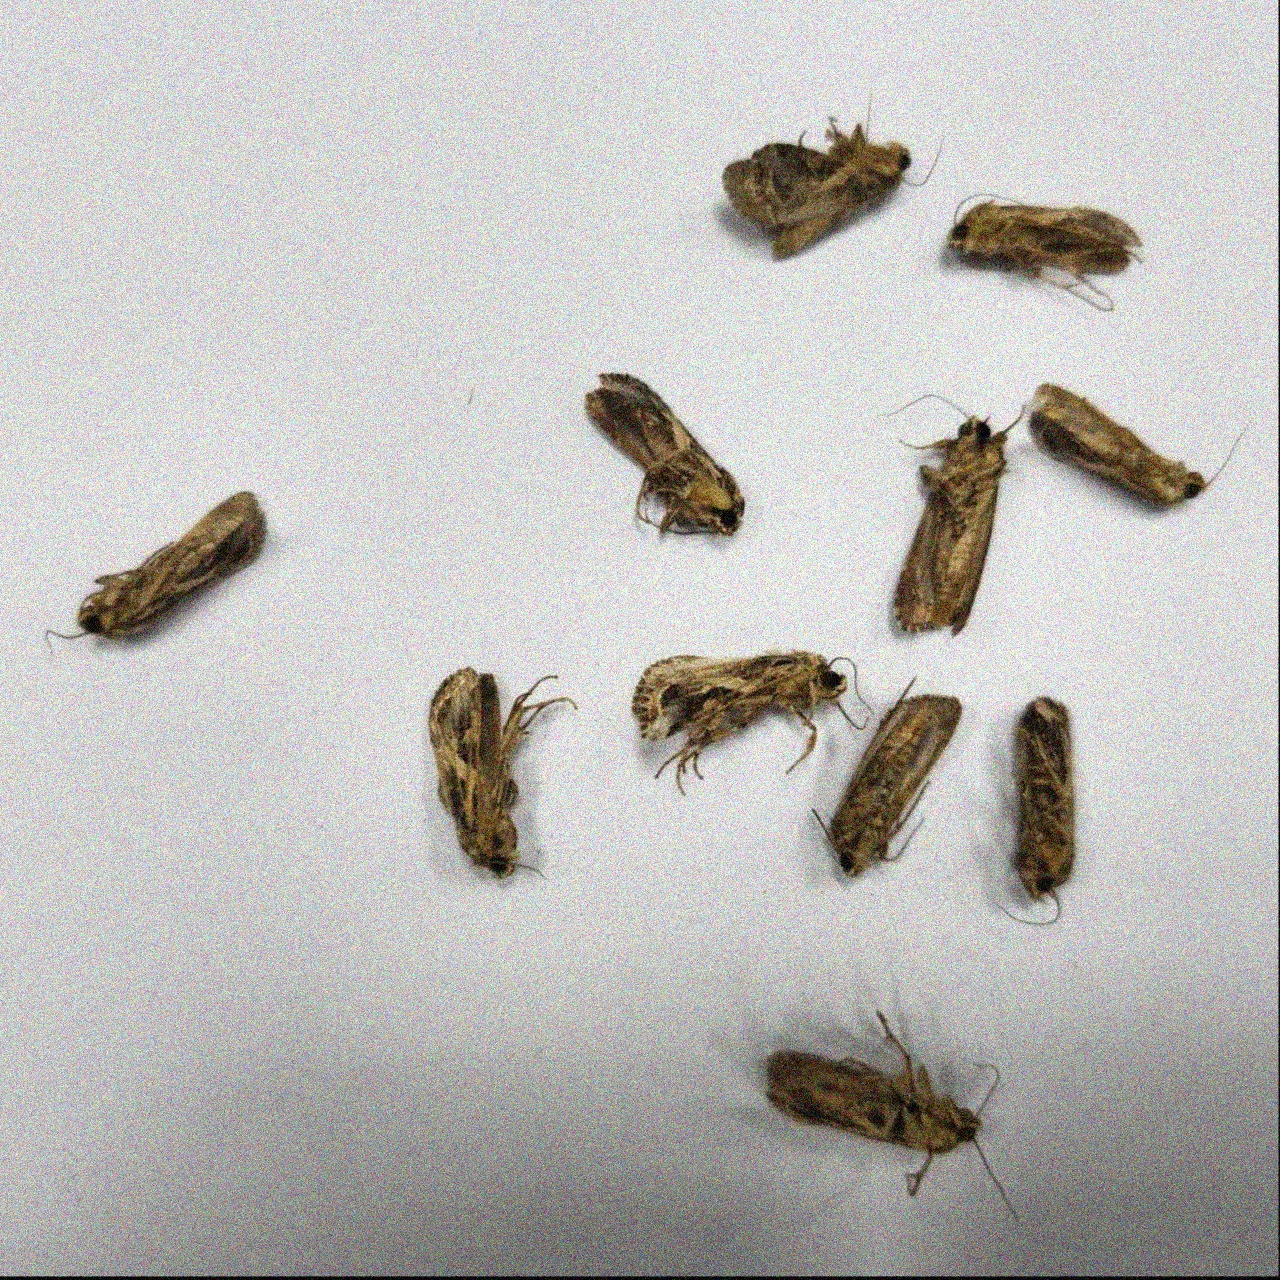Spodoptera litura: (765, 1008, 1022, 1228), (721, 84, 944, 263), (45, 489, 268, 663), (877, 394, 1027, 638), (631, 648, 874, 795), (428, 665, 577, 879), (812, 674, 961, 874), (1027, 381, 1251, 508), (584, 370, 743, 538), (944, 192, 1142, 311), (994, 694, 1077, 927)
